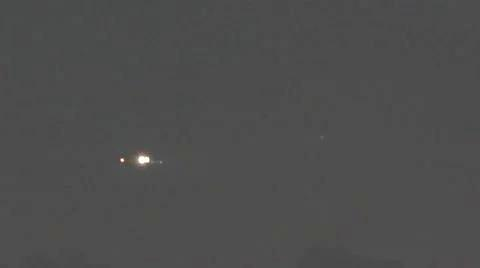Plane: (98, 143, 182, 175)
